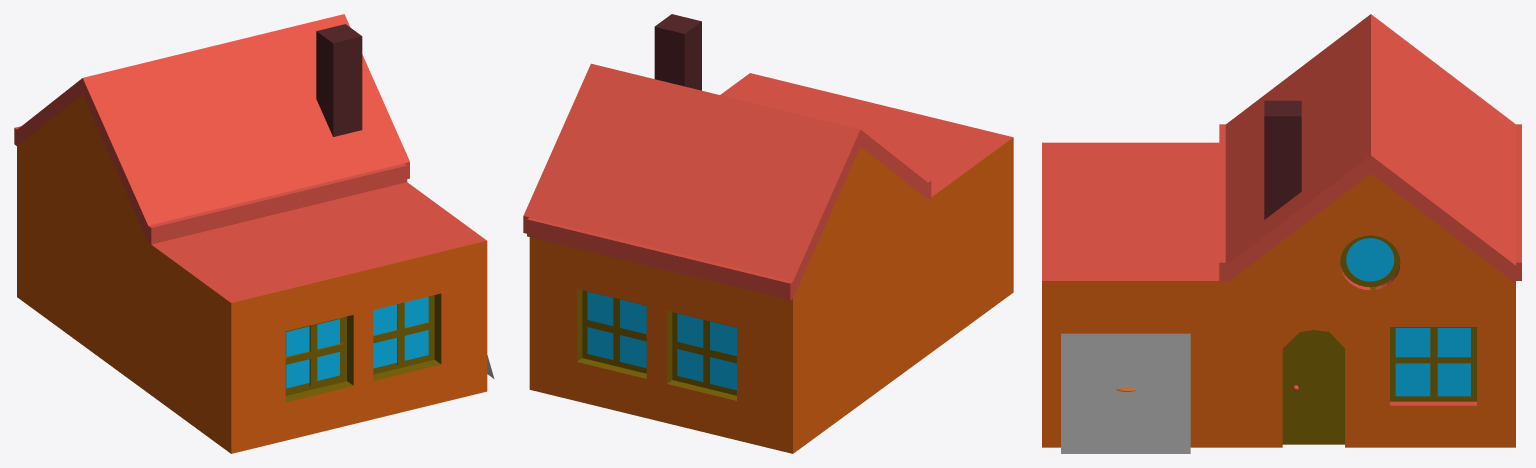
Rendered from House 3 Rework 2.fbx.
3 views of the same model, side by side, from view 1: azimuth 30°, elevation 25°; view 2: azimuth 150°, elevation 25°; view 3: azimuth 270°, elevation 25° (orthographic). The views are drawn at different scales.
Parts seen in each view (by area): view 1: Cube, Cube.002; view 2: Cube, Cube.002; view 3: Cube, Cube.002.
Part boxes in pixels (x1,y1,x2,y2): Cube: (14,14,494,453); Cube.002: (316,24,362,136); Cube: (523,63,1013,453); Cube.002: (654,14,701,90); Cube: (1042,14,1521,453); Cube.002: (1264,100,1301,219).
Size of the model in its own units: 268 by 271 by 370.
